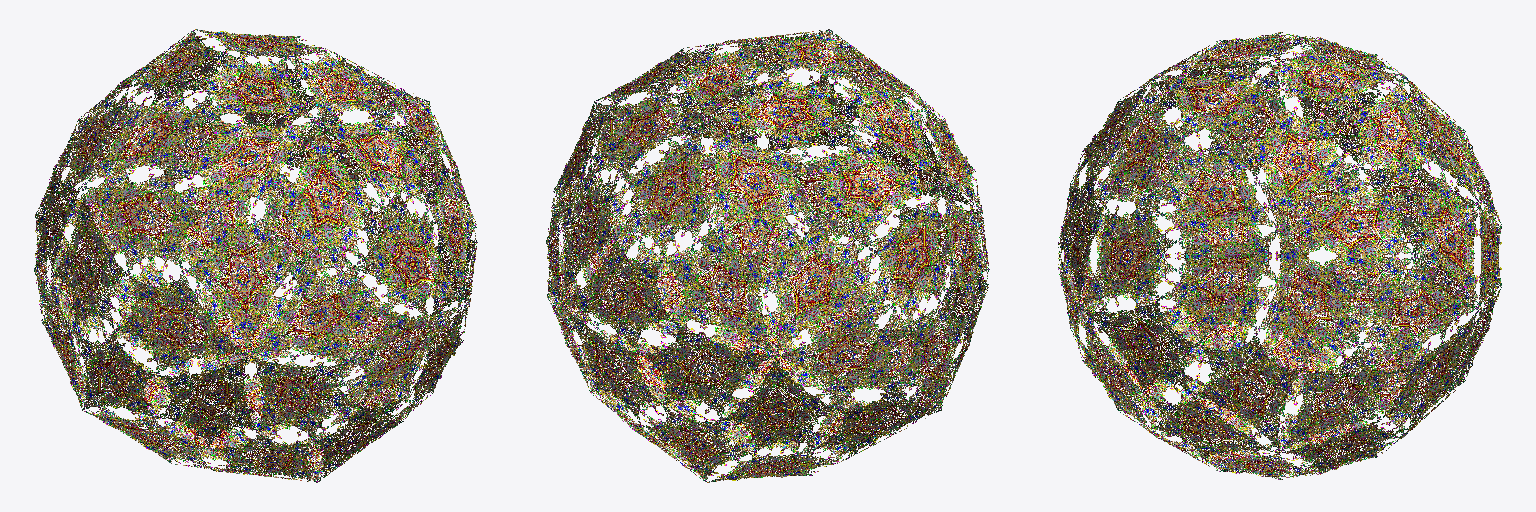
3 renders of one model, left to right at view 1: azimuth 30°, elevation 25°; view 2: azimuth 150°, elevation 25°; view 3: azimuth 270°, elevation 25°, orthographic.
Bounding box in the file's own units: 4.19 × 4.19 × 4.19.
Materials: 1 (1 with a texture image).